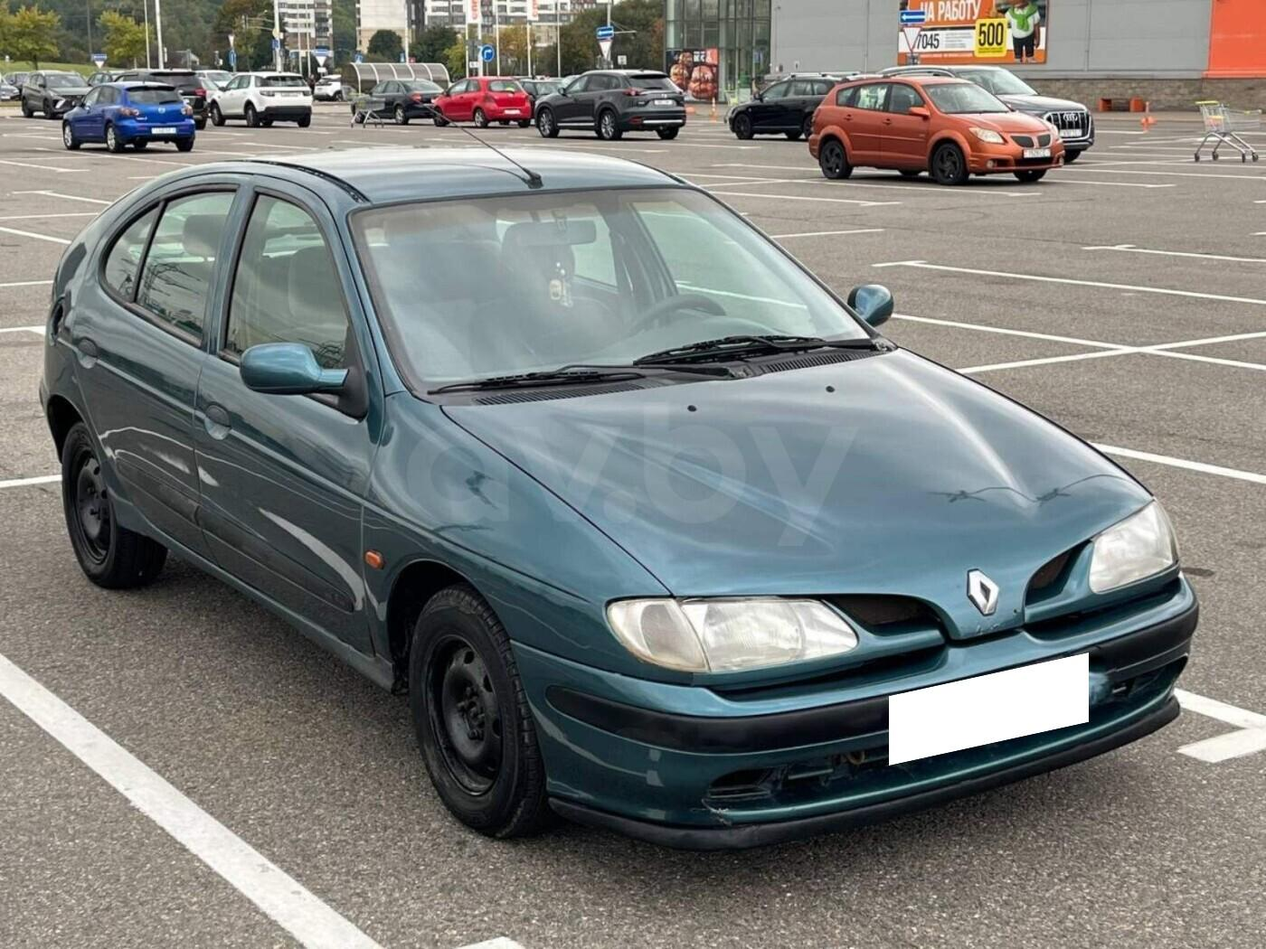Megane_1995-1999: (39, 148, 1203, 850)
